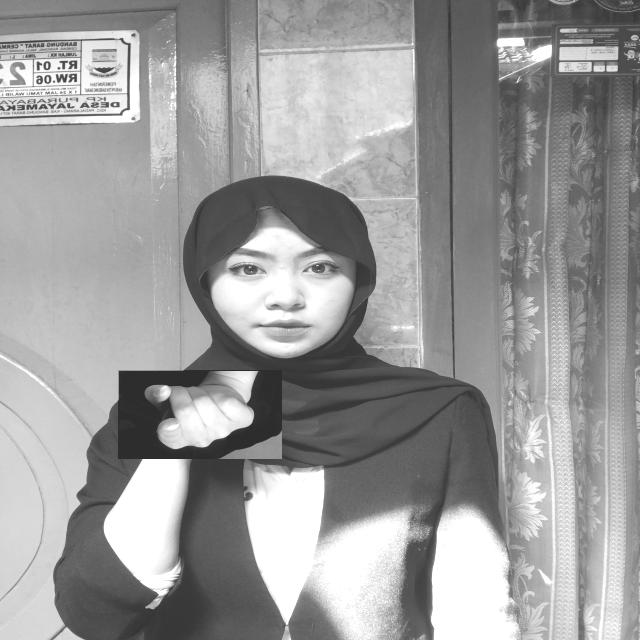kamu: (119, 370, 282, 459)
